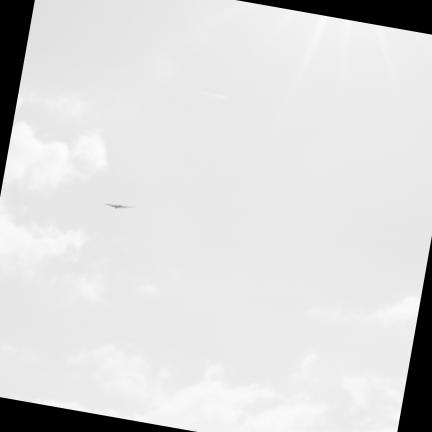Shahed: (104, 204, 134, 208)
